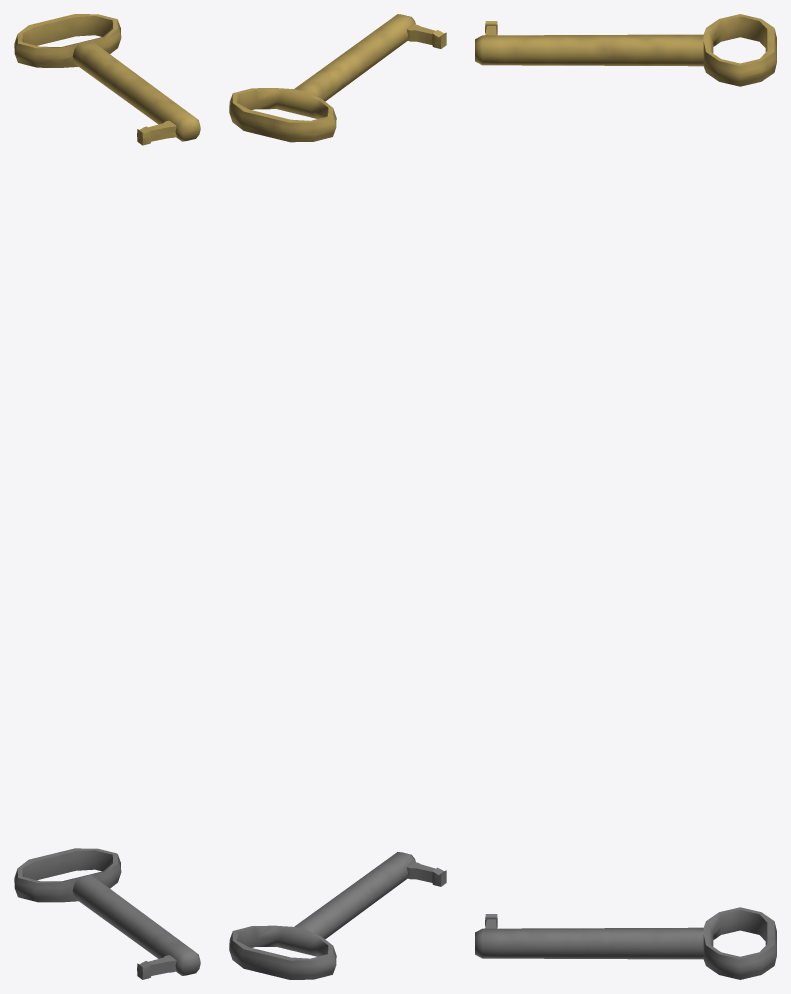
Rendered from key parts.fbx.
3 renders of one model, left to right at view 1: azimuth 30°, elevation 25°; view 2: azimuth 150°, elevation 25°; view 3: azimuth 270°, elevation 25°, orthographic. The views are drawn at different scales.
Visible parts, largest first — view 1: Key.003, Key.002, Key.004, Key.005, Key.007, Key.006; view 2: Key.005, Key.004, Key.003, Key.002, Key.007, Key.006; view 3: Key.002, Key.003, Key.004, Key.005.
Part boxes in pixels (<box>): Key.003: <box>72,40,200,141</box>; Key.002: <box>72,874,200,975</box>; Key.004: <box>14,848,121,902</box>; Key.005: <box>14,14,121,67</box>; Key.007: <box>137,955,176,979</box>; Key.006: <box>137,120,176,145</box>; Key.005: <box>229,88,336,142</box>; Key.004: <box>229,925,336,979</box>; Key.003: <box>294,14,415,101</box>; Key.002: <box>294,852,415,939</box>; Key.007: <box>407,862,446,886</box>; Key.006: <box>406,24,446,48</box>; Key.002: <box>475,927,703,959</box>; Key.003: <box>475,34,703,66</box>; Key.004: <box>703,907,776,979</box>; Key.005: <box>703,14,776,86</box>.
Size of the model in its own units: 39.53 by 305 by 90.92.
Materials: 2 (2 with a texture image).
